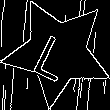L_NE: (32, 22, 83, 81)
